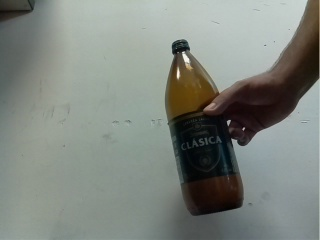pote cristal: (164, 39, 244, 216)
